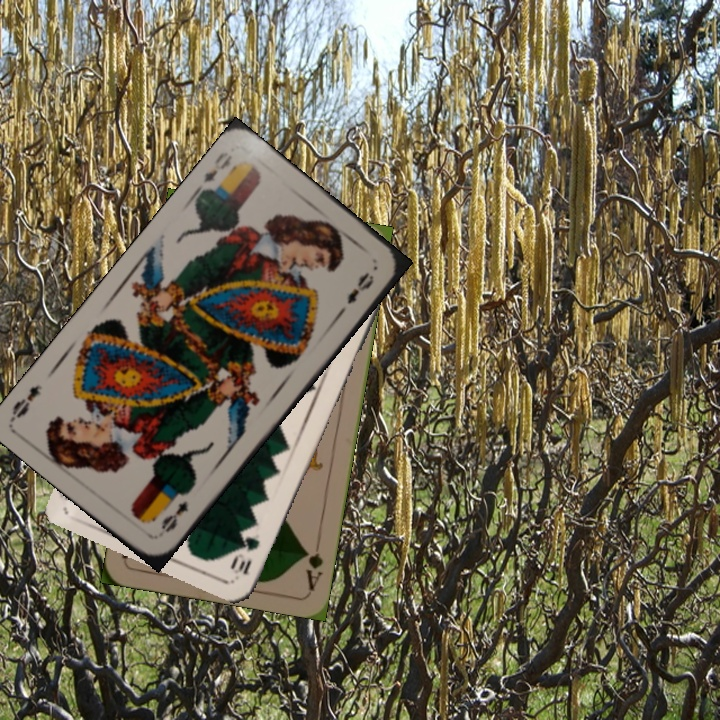EO: (191, 147, 239, 197), (157, 496, 191, 536)
G10: (227, 532, 263, 577)
GA: (300, 546, 325, 593)
